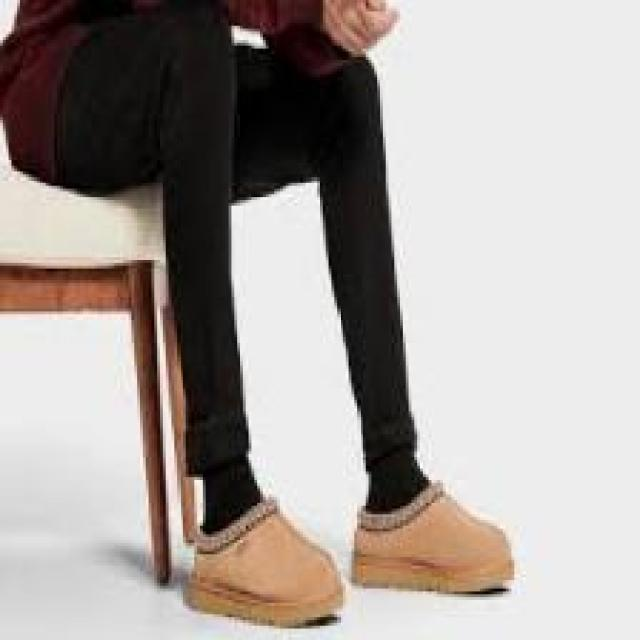shoe: (189, 499, 344, 629), (353, 484, 516, 595)
